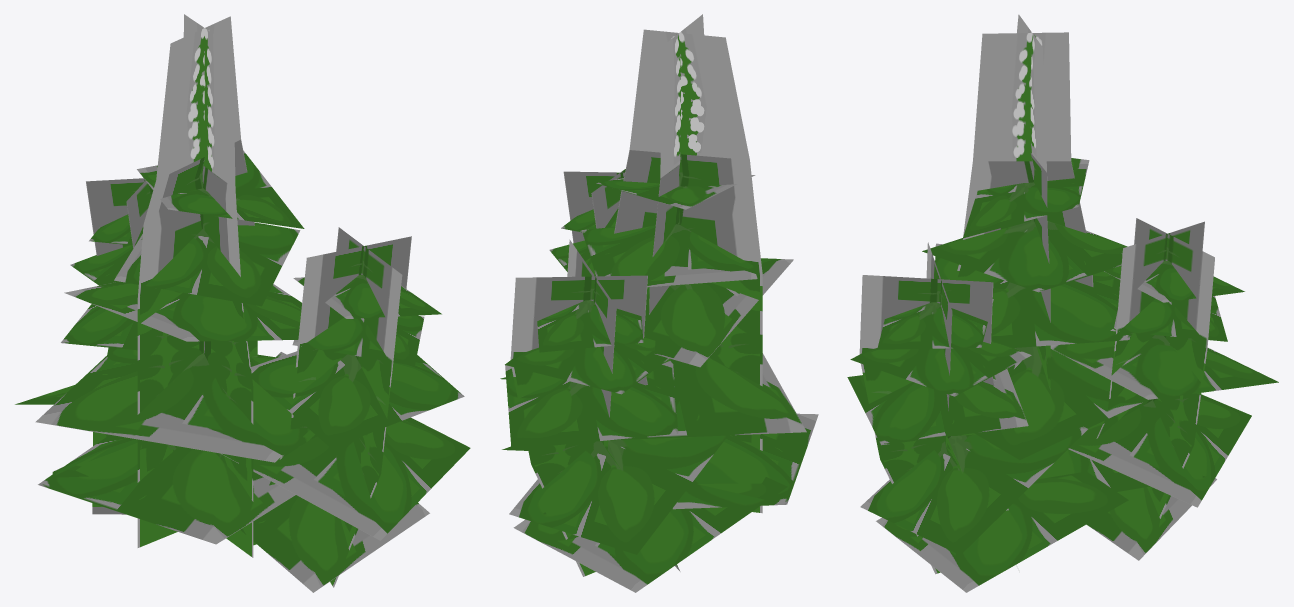
File: PT_Basil_01.fbx
The picture shows the model from 3 angles, left to right: view 1: azimuth 30°, elevation 25°; view 2: azimuth 150°, elevation 25°; view 3: azimuth 270°, elevation 25°; orthographic projection. The views are drawn at different scales.
Parts seen in each view (by area): view 1: PT_Basil_01_LOD0; view 2: PT_Basil_01_LOD0; view 3: PT_Basil_01_LOD0.
Part boxes in pixels (box(x1,y1,x2,y2)): PT_Basil_01_LOD0: box(15, 14, 470, 592); PT_Basil_01_LOD0: box(500, 14, 818, 592); PT_Basil_01_LOD0: box(847, 14, 1278, 592).
Size of what is drawn, in the model's own units: 61.55 by 83.84 by 64.88.
